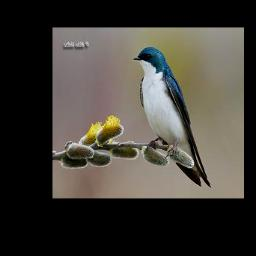Swallow: (132, 46, 212, 189)
